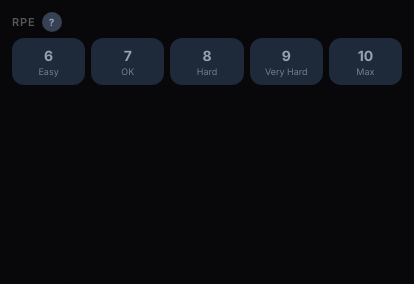
Test: RPE Info Tooltip › tapping info button again closes the popover
The image size is (414, 284).
Click the button named "What is RPE?".
click(52, 22)  # box [42,12,62,32]
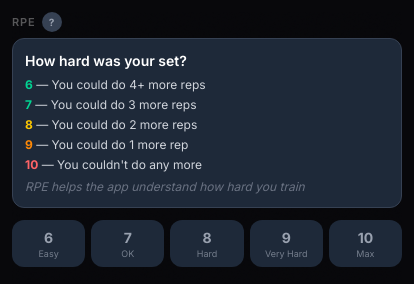
Expected: the text "How hard was your set?" is shown, [25,52,187,69]
Click the button named "What is RPE?".
click(52, 22)  # box [42,12,62,32]
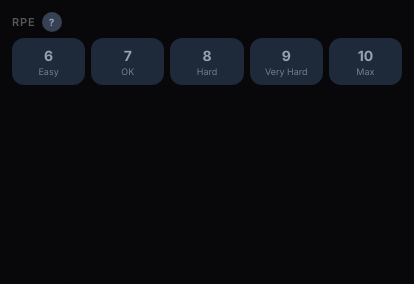
Expected: the text "How hard was your set?" is gone
